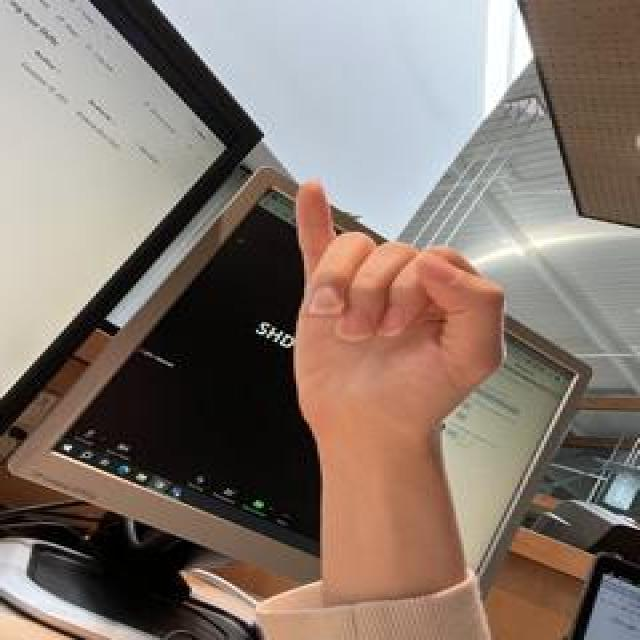I: (284, 176, 511, 454)
